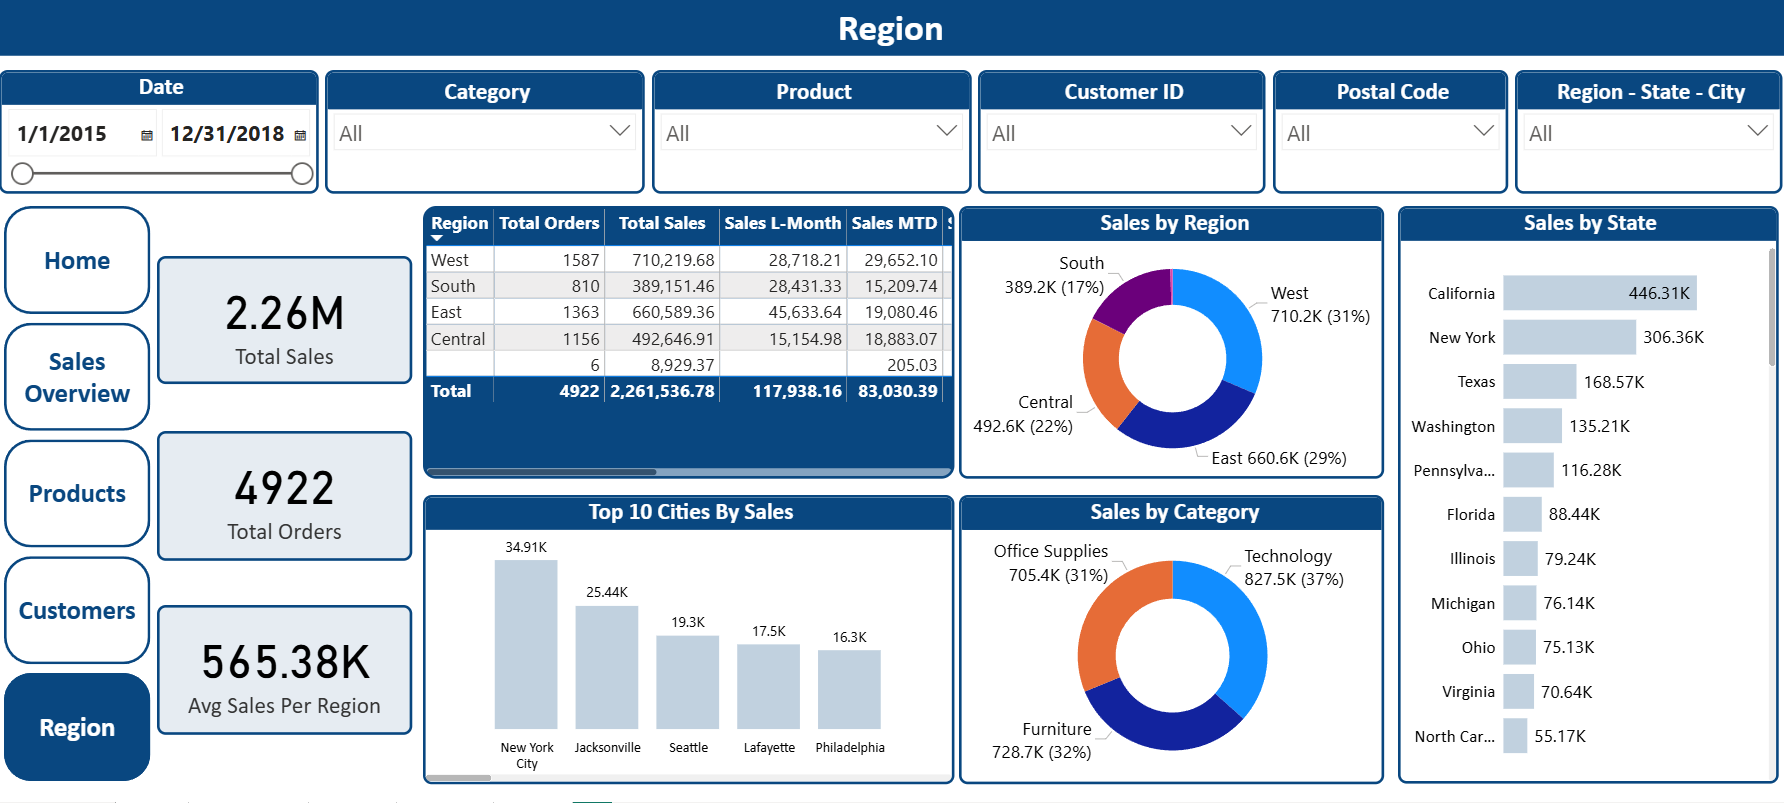

Layout of this report page (visuals, bound fields, positions):
{"tool":"powerbi","page":{"name":"Region","canvas":[2050,920],"ordinal":4},"visuals":[{"type":"textbox","box":[0,0,2050,64.5],"z":0},{"type":"slicer","title":"Category","fields":{"Values":["Dim Product.Category"]},"box":[375,80,366.7,141.7],"z":1000},{"type":"slicer","title":"Product","fields":{"Values":["Dim Product.Product Name"]},"box":[750.7,80,366.7,141.7],"z":2000},{"type":"slicer","title":"Customer ID","fields":{"Values":["Dim Customer.Customer ID"]},"box":[1125,80,330,141.7],"z":3000},{"type":"slicer","title":"Postal Code","fields":{"Values":["Dim Region.Postal Code"]},"box":[1463.3,80,270,141.7],"z":4000},{"type":"slicer","title":"Region - State - City","fields":{"Values":["Dim Region.State","Dim Region.City"]},"box":[1741.7,80,306.7,141.7],"z":5000},{"type":"card","fields":{"Values":["Measure.Total Sales"]},"box":[182.9,294.3,292.9,147.1],"z":6000},{"type":"card","fields":{"Values":["Measure.Num Of Orders"]},"box":[182.9,494.3,292.9,148.6],"z":7000},{"type":"columnChart","title":"Top 10 Cities By Sales","fields":{"Y":["Measure.Total Sales"],"Category":["Dim Region.City"]},"box":[488.3,568.3,610,331.7],"z":8000},{"type":"card","fields":{"Values":["Measure.Avg Sales Per Region"]},"box":[182.9,694.3,292.9,148.6],"z":9000},{"type":"tableEx","fields":{"Values":["Dim Region.Region","Measure.Total Orders","Measure.Total Sales","Measure.Sales L-Month","Measure.Sales MTD","Measure.Sales MTD vs LM %","Measure.Sales YAGO","Measure.Sales YTD","Measure.Sales YTD vs YAGO %","Measure.Sales YTD Var"]},"box":[488.3,236.7,610,313.3],"z":10000},{"type":"donutChart","title":"Sales by Region","fields":{"Y":["Measure.Total Sales"],"Category":["Dim Region.Region"]},"box":[1103.3,236.7,488.3,313.3],"z":11000},{"type":"pageNavigator","box":[6.7,236.7,168.3,663.3],"z":12000},{"type":"donutChart","title":"Sales by Category","fields":{"Y":["Measure.Total Sales"],"Category":["Dim Product.Category"]},"box":[1103.3,568.3,488.3,331.7],"z":13000},{"type":"barChart","title":"Sales by State","fields":{"Y":["Measure.Total Sales"],"Category":["Dim Region.State"]},"box":[1606.7,236.7,436.7,663.3],"z":14000},{"type":"slicer","title":"Date","fields":{"Values":["Date.Date"]},"box":[1.7,80,366.7,141.7],"z":15000}]}

Visuals, with their boxes in screenshot pixels (x1, y1, x2, y2), scaled from the page's 2050x920 canvas onto the 1784x803 screenshot:
textbox: <region>0, 0, 1783, 56</region>
"Category" slicer: <region>326, 70, 645, 194</region>
"Product" slicer: <region>653, 70, 972, 194</region>
"Customer ID" slicer: <region>979, 70, 1266, 194</region>
"Postal Code" slicer: <region>1273, 70, 1508, 194</region>
"Region - State - City" slicer: <region>1516, 70, 1783, 194</region>
card - Measure.Total Sales: <region>159, 257, 414, 385</region>
card - Measure.Num Of Orders: <region>159, 431, 414, 561</region>
"Top 10 Cities By Sales" columnChart: <region>425, 496, 956, 786</region>
card - Measure.Avg Sales Per Region: <region>159, 606, 414, 736</region>
tableEx - Dim Region.Region x Measure.Total Orders: <region>425, 207, 956, 480</region>
"Sales by Region" donutChart: <region>960, 207, 1385, 480</region>
pageNavigator: <region>6, 207, 152, 786</region>
"Sales by Category" donutChart: <region>960, 496, 1385, 786</region>
"Sales by State" barChart: <region>1398, 207, 1778, 786</region>
"Date" slicer: <region>1, 70, 321, 194</region>
